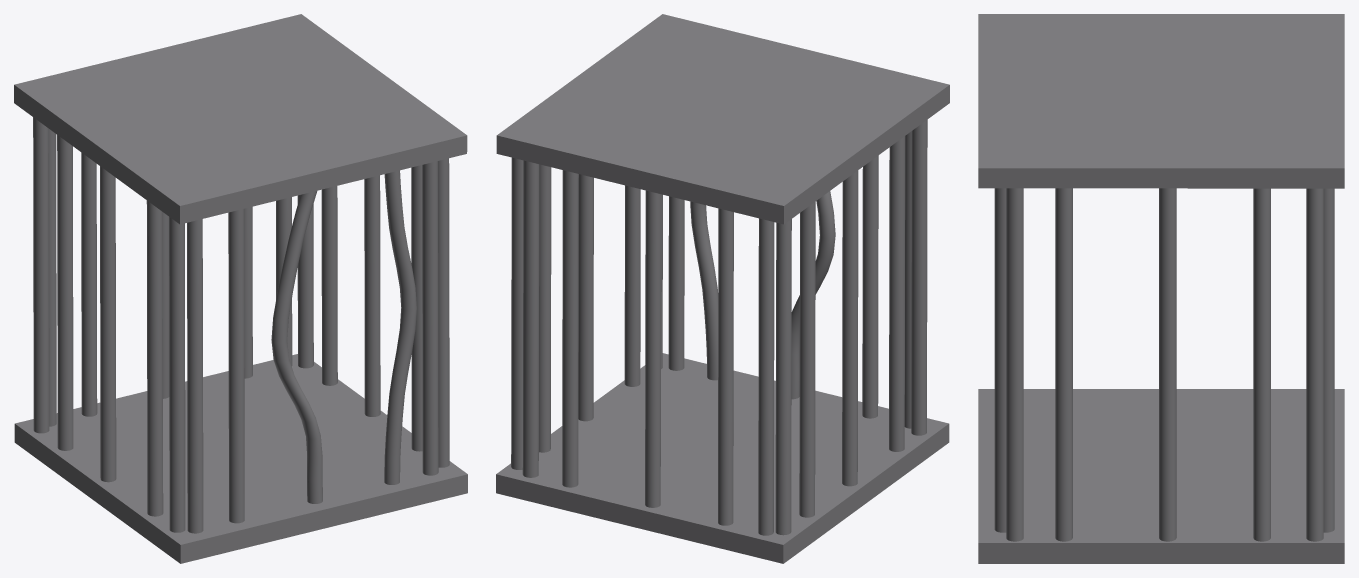
File: CAGE_BROEN.fbx
3 views of the same model, side by side, from view 1: azimuth 30°, elevation 25°; view 2: azimuth 150°, elevation 25°; view 3: azimuth 270°, elevation 25° (orthographic). The views are drawn at different scales.
Parts seen in each view (by area): view 1: Cylinder.017; view 2: Cylinder.017; view 3: Cylinder.017.
Boxes of the visible parts, x1=… form: Cylinder.017: x1=14, y1=14, x2=467, y2=563; Cylinder.017: x1=496, y1=14, x2=949, y2=563; Cylinder.017: x1=978, y1=14, x2=1344, y2=563.
Size of the model in its own units: 374 by 445 by 373.
